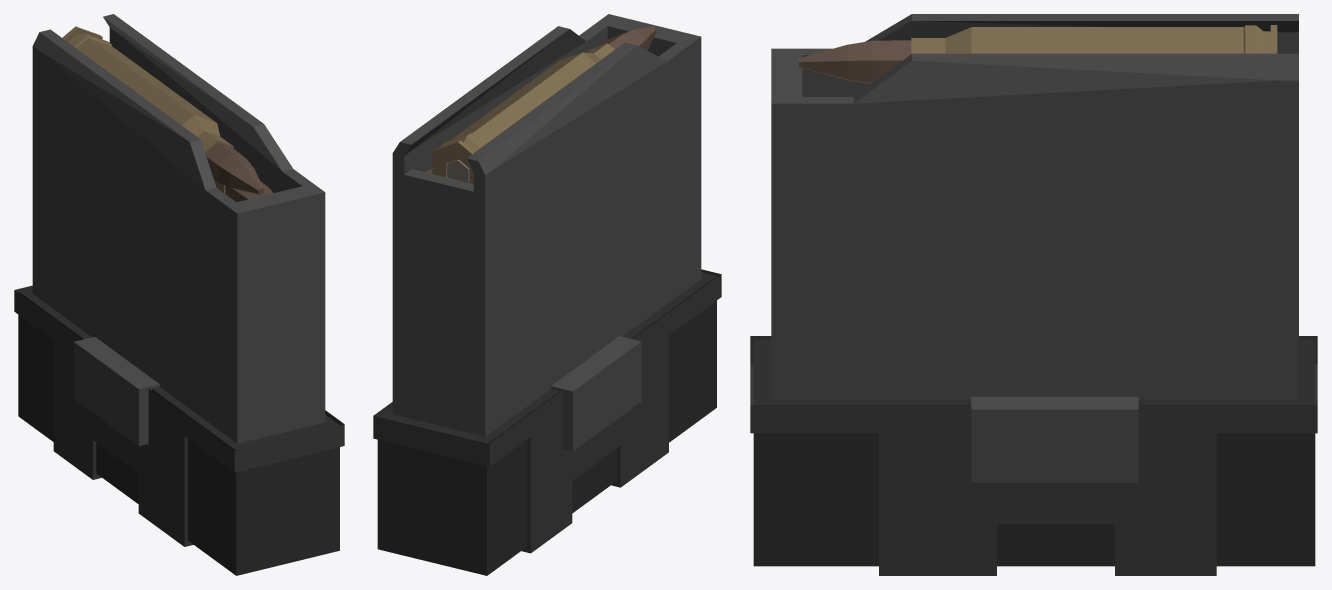
The model's file is SM_DSR-1_Magazine.fbx.
The picture shows the model from 3 angles, left to right: view 1: azimuth 30°, elevation 25°; view 2: azimuth 150°, elevation 25°; view 3: azimuth 270°, elevation 25°; orthographic projection. The views are drawn at different scales.
Visible parts, largest first — view 1: SM_DSR-1_Magazine; view 2: SM_DSR-1_Magazine; view 3: SM_DSR-1_Magazine.
Boxes of the visible parts, x1=… form: SM_DSR-1_Magazine: x1=14, y1=14, x2=344, y2=575; SM_DSR-1_Magazine: x1=373, y1=14, x2=721, y2=575; SM_DSR-1_Magazine: x1=750, y1=14, x2=1317, y2=575.
Size of the model in its own units: 3.48 by 10.16 by 10.23.
